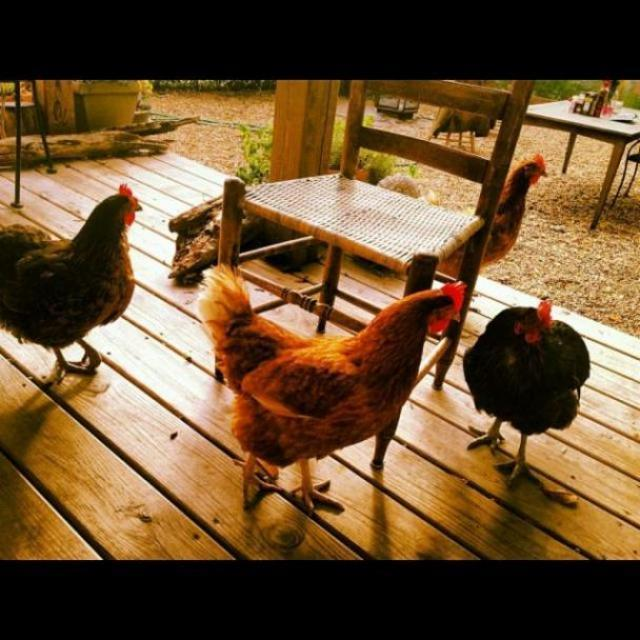Chicken: (191, 276, 466, 510), (0, 185, 142, 382), (463, 299, 589, 490), (434, 157, 549, 303)
